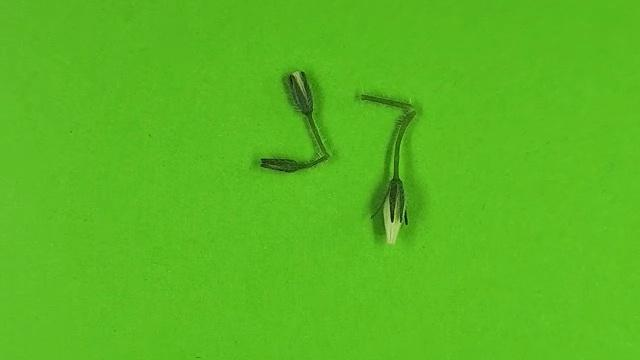Flower Bud: (382, 182, 405, 245), (287, 71, 313, 114), (259, 157, 306, 172)
